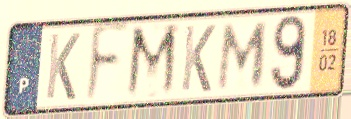9: (268, 13, 309, 94)
F: (83, 19, 132, 109)
K: (179, 23, 218, 95), (43, 31, 82, 103)
M: (123, 21, 181, 102), (214, 20, 271, 94)
